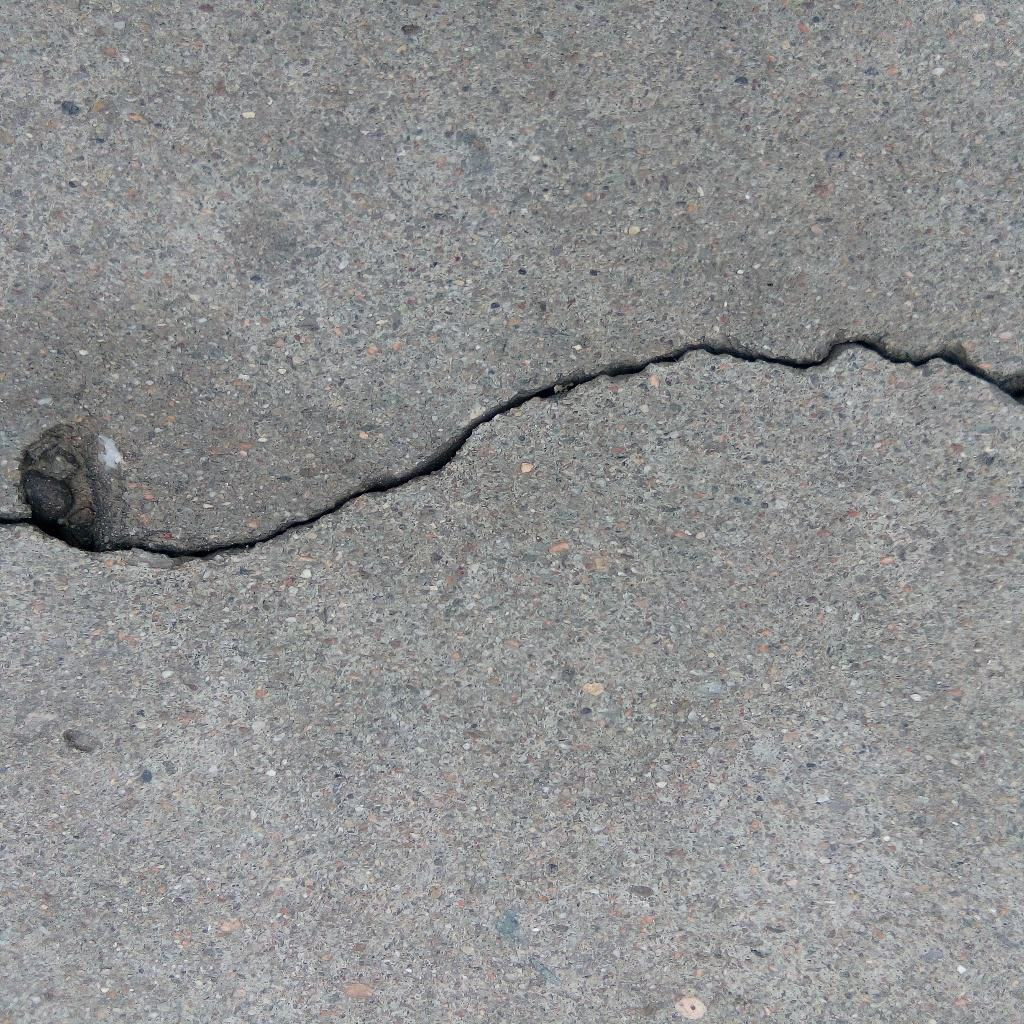Crack: (131, 336, 1024, 561)
Spalling: (1, 421, 132, 552)
